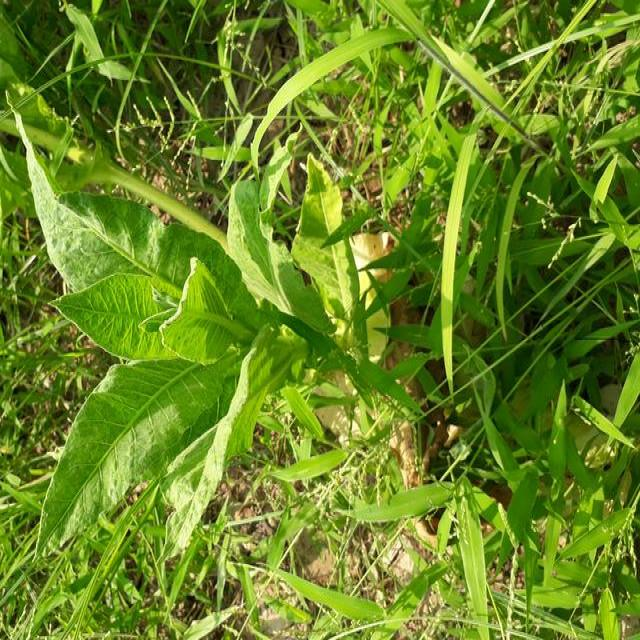crop: (9, 93, 359, 549)
